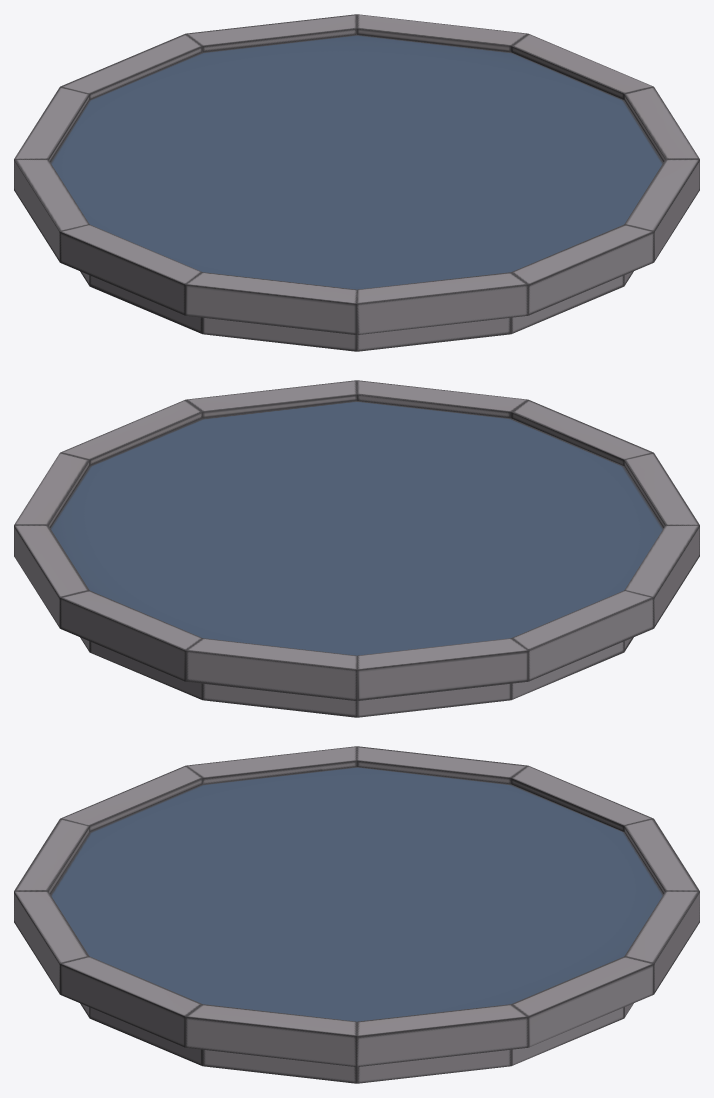
File: AM_Trampolin.fbx
3 views of the same model, one above another, from view 1: azimuth 30°, elevation 25°; view 2: azimuth 150°, elevation 25°; view 3: azimuth 270°, elevation 25° (orthographic).
Visible parts, largest first — view 1: Trampolin; view 2: Trampolin; view 3: Trampolin.
Part boxes in pixels (x1=…): Trampolin: x1=14, y1=14, x2=699, y2=351; Trampolin: x1=14, y1=380, x2=699, y2=717; Trampolin: x1=14, y1=746, x2=699, y2=1083.
Bounding box in the file's own units: 200 × 20 × 200.
